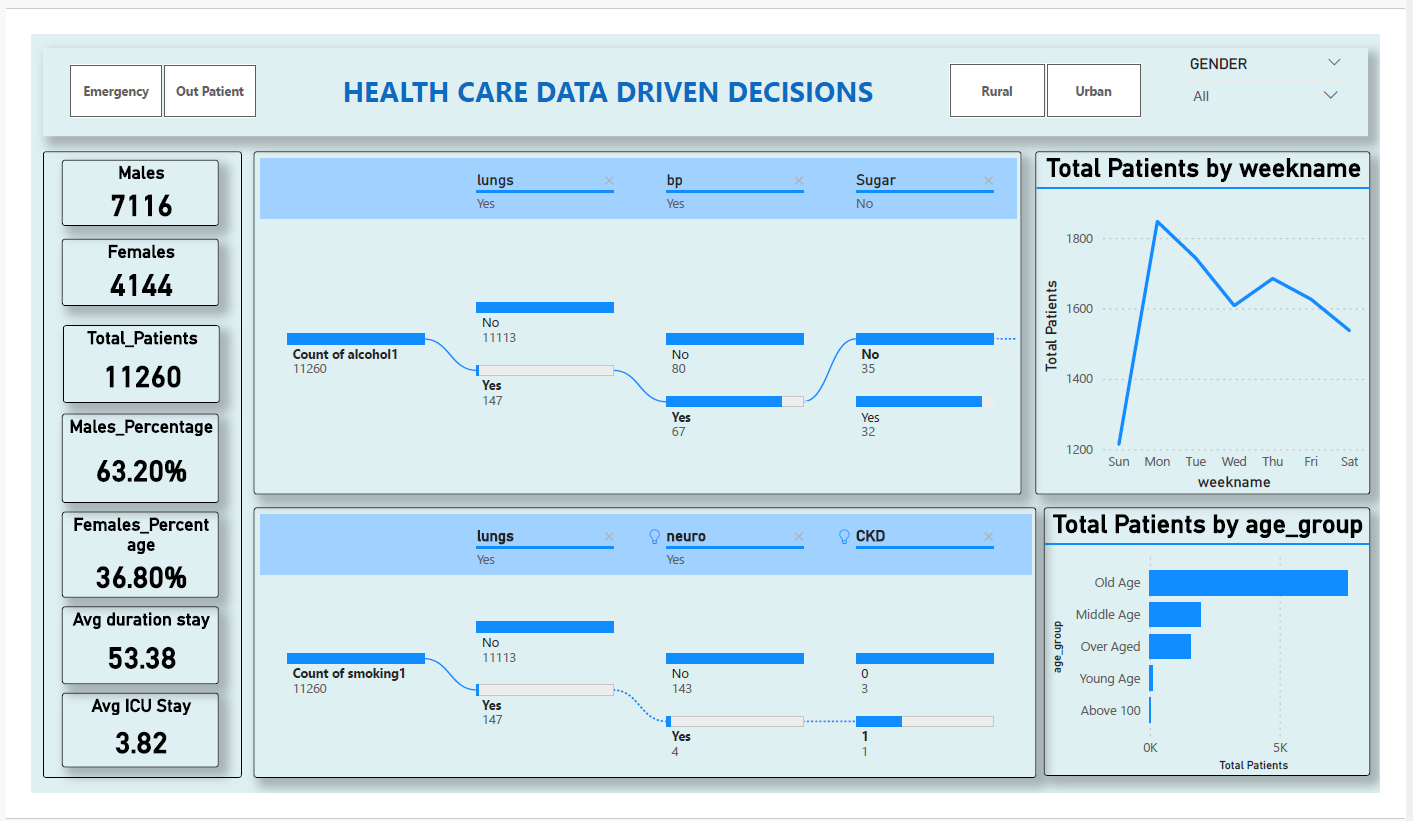

The page's visual inventory and layout, read from the dashboard file:
{"tool":"powerbi","page":{"name":"HCDD","canvas":[1280,720],"ordinal":0},"visuals":[{"type":"textbox","box":[10.5,12.8,1258,84.1],"z":0},{"type":"slicer","fields":{"Values":["Patient Details.TYPE OF ADMISSION-EMERGENCY/OPD"]},"box":[10.5,22.2,226.6,64.2],"z":1000},{"type":"slicer","fields":{"Values":["Patient Details.GENDER"]},"box":[1089.8,17.5,165.9,73.6],"z":2000},{"type":"slicer","fields":{"Values":["Patient Details.RURAL"]},"box":[845.7,21,231.3,65.4],"z":3000},{"type":"textbox","box":[10.5,111,189.2,594.6],"z":4000},{"type":"card","title":"Males","fields":{"Values":["Patient Details.Males"]},"box":[29.2,119.1,148.3,63.1],"z":5000},{"type":"card","title":"Females","fields":{"Values":["Patient Details.Females"]},"box":[29.2,193.9,148.3,64.2],"z":6000},{"type":"card","title":"Total_Patients","fields":{"Values":["Patient Details.Total Patients"]},"box":[30.4,275.7,148.3,74.8],"z":7000},{"type":"card","title":"Males_Percentage","fields":{"Values":["Patient Details.Males_percent"]},"box":[29.2,359.8,148.3,85.3],"z":8000},{"type":"card","title":"Females_Percentage","fields":{"Values":["Patient Details.Females_percent"]},"box":[29.2,453.2,148.3,81.8],"z":9000},{"type":"card","title":"Avg duration stay","fields":{"Values":["Avg(Patient Details.Duration of Stay)"]},"box":[29.2,543.2,148.3,73.6],"z":10000},{"type":"card","title":"Avg ICU Stay","fields":{"Values":["Avg(Patient Details.duration of intensive unit stay)"]},"box":[29.2,624.9,148.3,71.3],"z":11000},{"type":"decompositionTreeVisual","fields":{"Analyze":["CountNonNull(Patient Details.alcohol1)"],"ExplainBy":["Patient Details.lungs","Patient Details.bp","Patient Details.Sugar","Patient Details.age_group"]},"box":[211.4,111,728.9,325.9],"z":12000},{"type":"lineChart","fields":{"Category":["Patient Details.weekname"],"Y":["Patient Details.Total Patients"]},"box":[953.2,111,317.7,325.9],"z":13000},{"type":"barChart","fields":{"Category":["Patient Details.age_group"],"Y":["Patient Details.Total Patients"]},"box":[961.3,448.6,309.5,255.8],"z":14000},{"type":"decompositionTreeVisual","fields":{"Analyze":["CountNonNull(Patient Details.smoking1)"],"ExplainBy":["Patient Details.lungs","Patient Details.neuro","Patient Details.CKD"]},"box":[211.4,448.6,742.9,257],"z":15000}]}

Visuals, with their boxes in screenshot pixels (x1, y1, x2, y2):
textbox: [left=40, top=50, right=1361, bottom=139]
slicer - Patient Details.TYPE OF ADMISSION-EMERGENCY/OPD: [left=40, top=60, right=278, bottom=128]
slicer - Patient Details.GENDER: [left=1174, top=55, right=1348, bottom=132]
slicer - Patient Details.RURAL: [left=917, top=59, right=1160, bottom=128]
textbox: [left=40, top=153, right=239, bottom=778]
"Males" card: [left=60, top=162, right=216, bottom=228]
"Females" card: [left=60, top=240, right=216, bottom=308]
"Total_Patients" card: [left=61, top=326, right=217, bottom=405]
"Males_Percentage" card: [left=60, top=415, right=216, bottom=504]
"Females_Percentage" card: [left=60, top=513, right=216, bottom=599]
"Avg duration stay" card: [left=60, top=607, right=216, bottom=684]
"Avg ICU Stay" card: [left=60, top=693, right=216, bottom=768]
decompositionTreeVisual - CountNonNull(Patient Details.alcohol1) x Patient Details.lungs: [left=251, top=153, right=1017, bottom=496]
lineChart - Patient Details.weekname x Patient Details.Total Patients: [left=1030, top=153, right=1364, bottom=496]
barChart - Patient Details.age_group x Patient Details.Total Patients: [left=1039, top=508, right=1364, bottom=776]
decompositionTreeVisual - CountNonNull(Patient Details.smoking1) x Patient Details.lungs: [left=251, top=508, right=1032, bottom=778]
